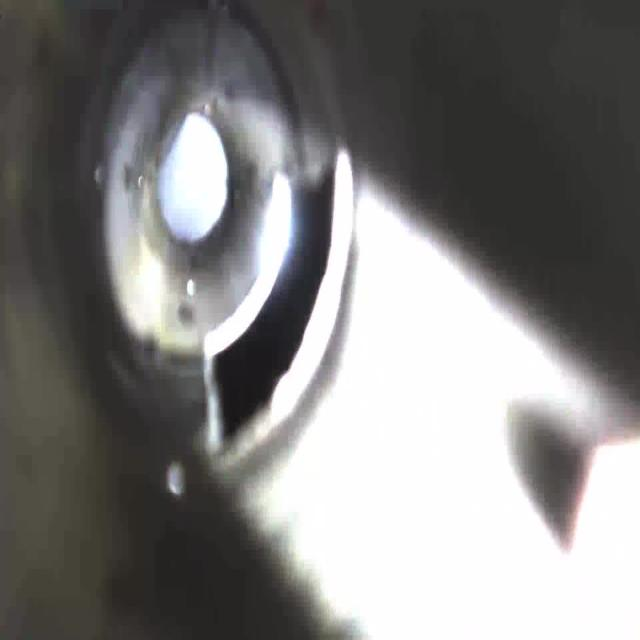hole: (195, 139, 362, 481)
